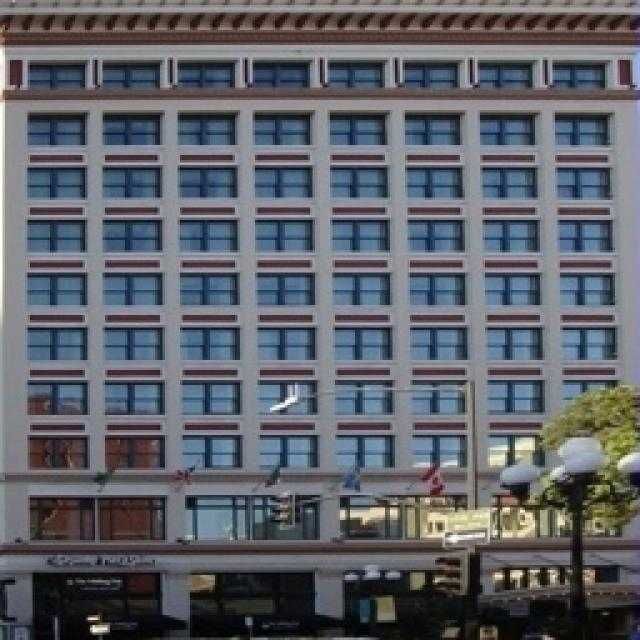building: (2, 0, 640, 630)
